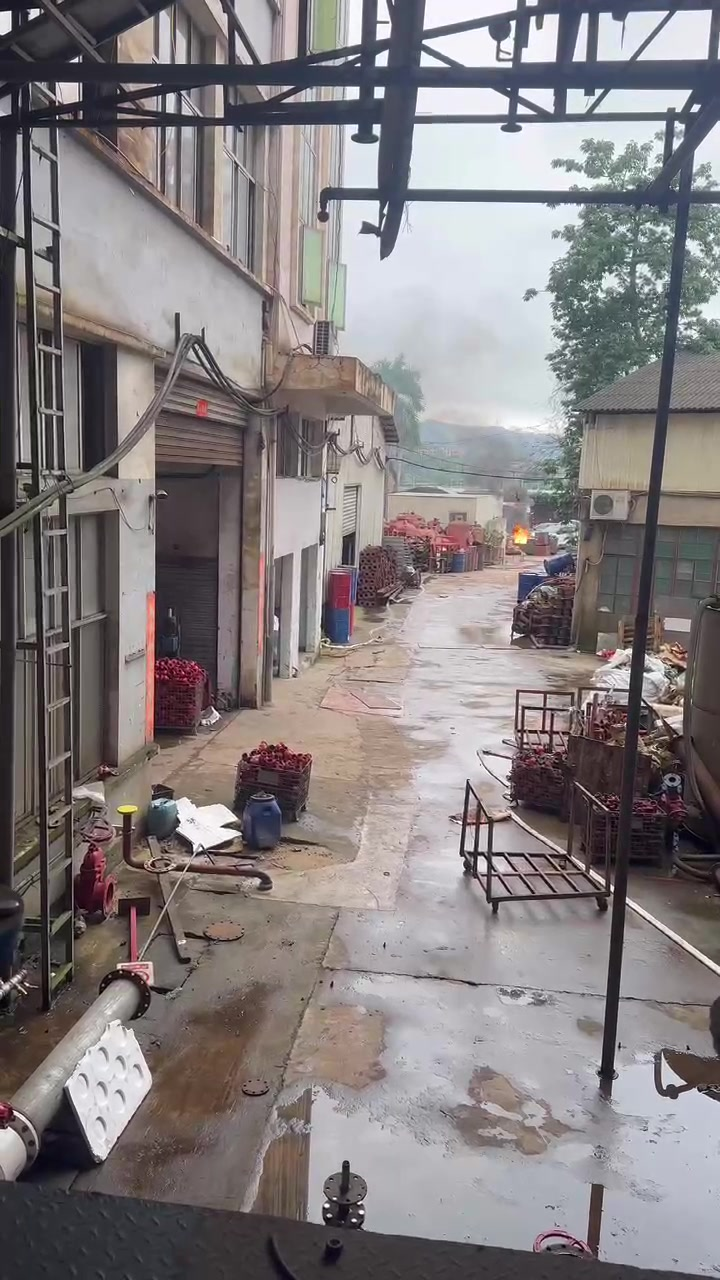fire: (513, 525, 527, 544)
